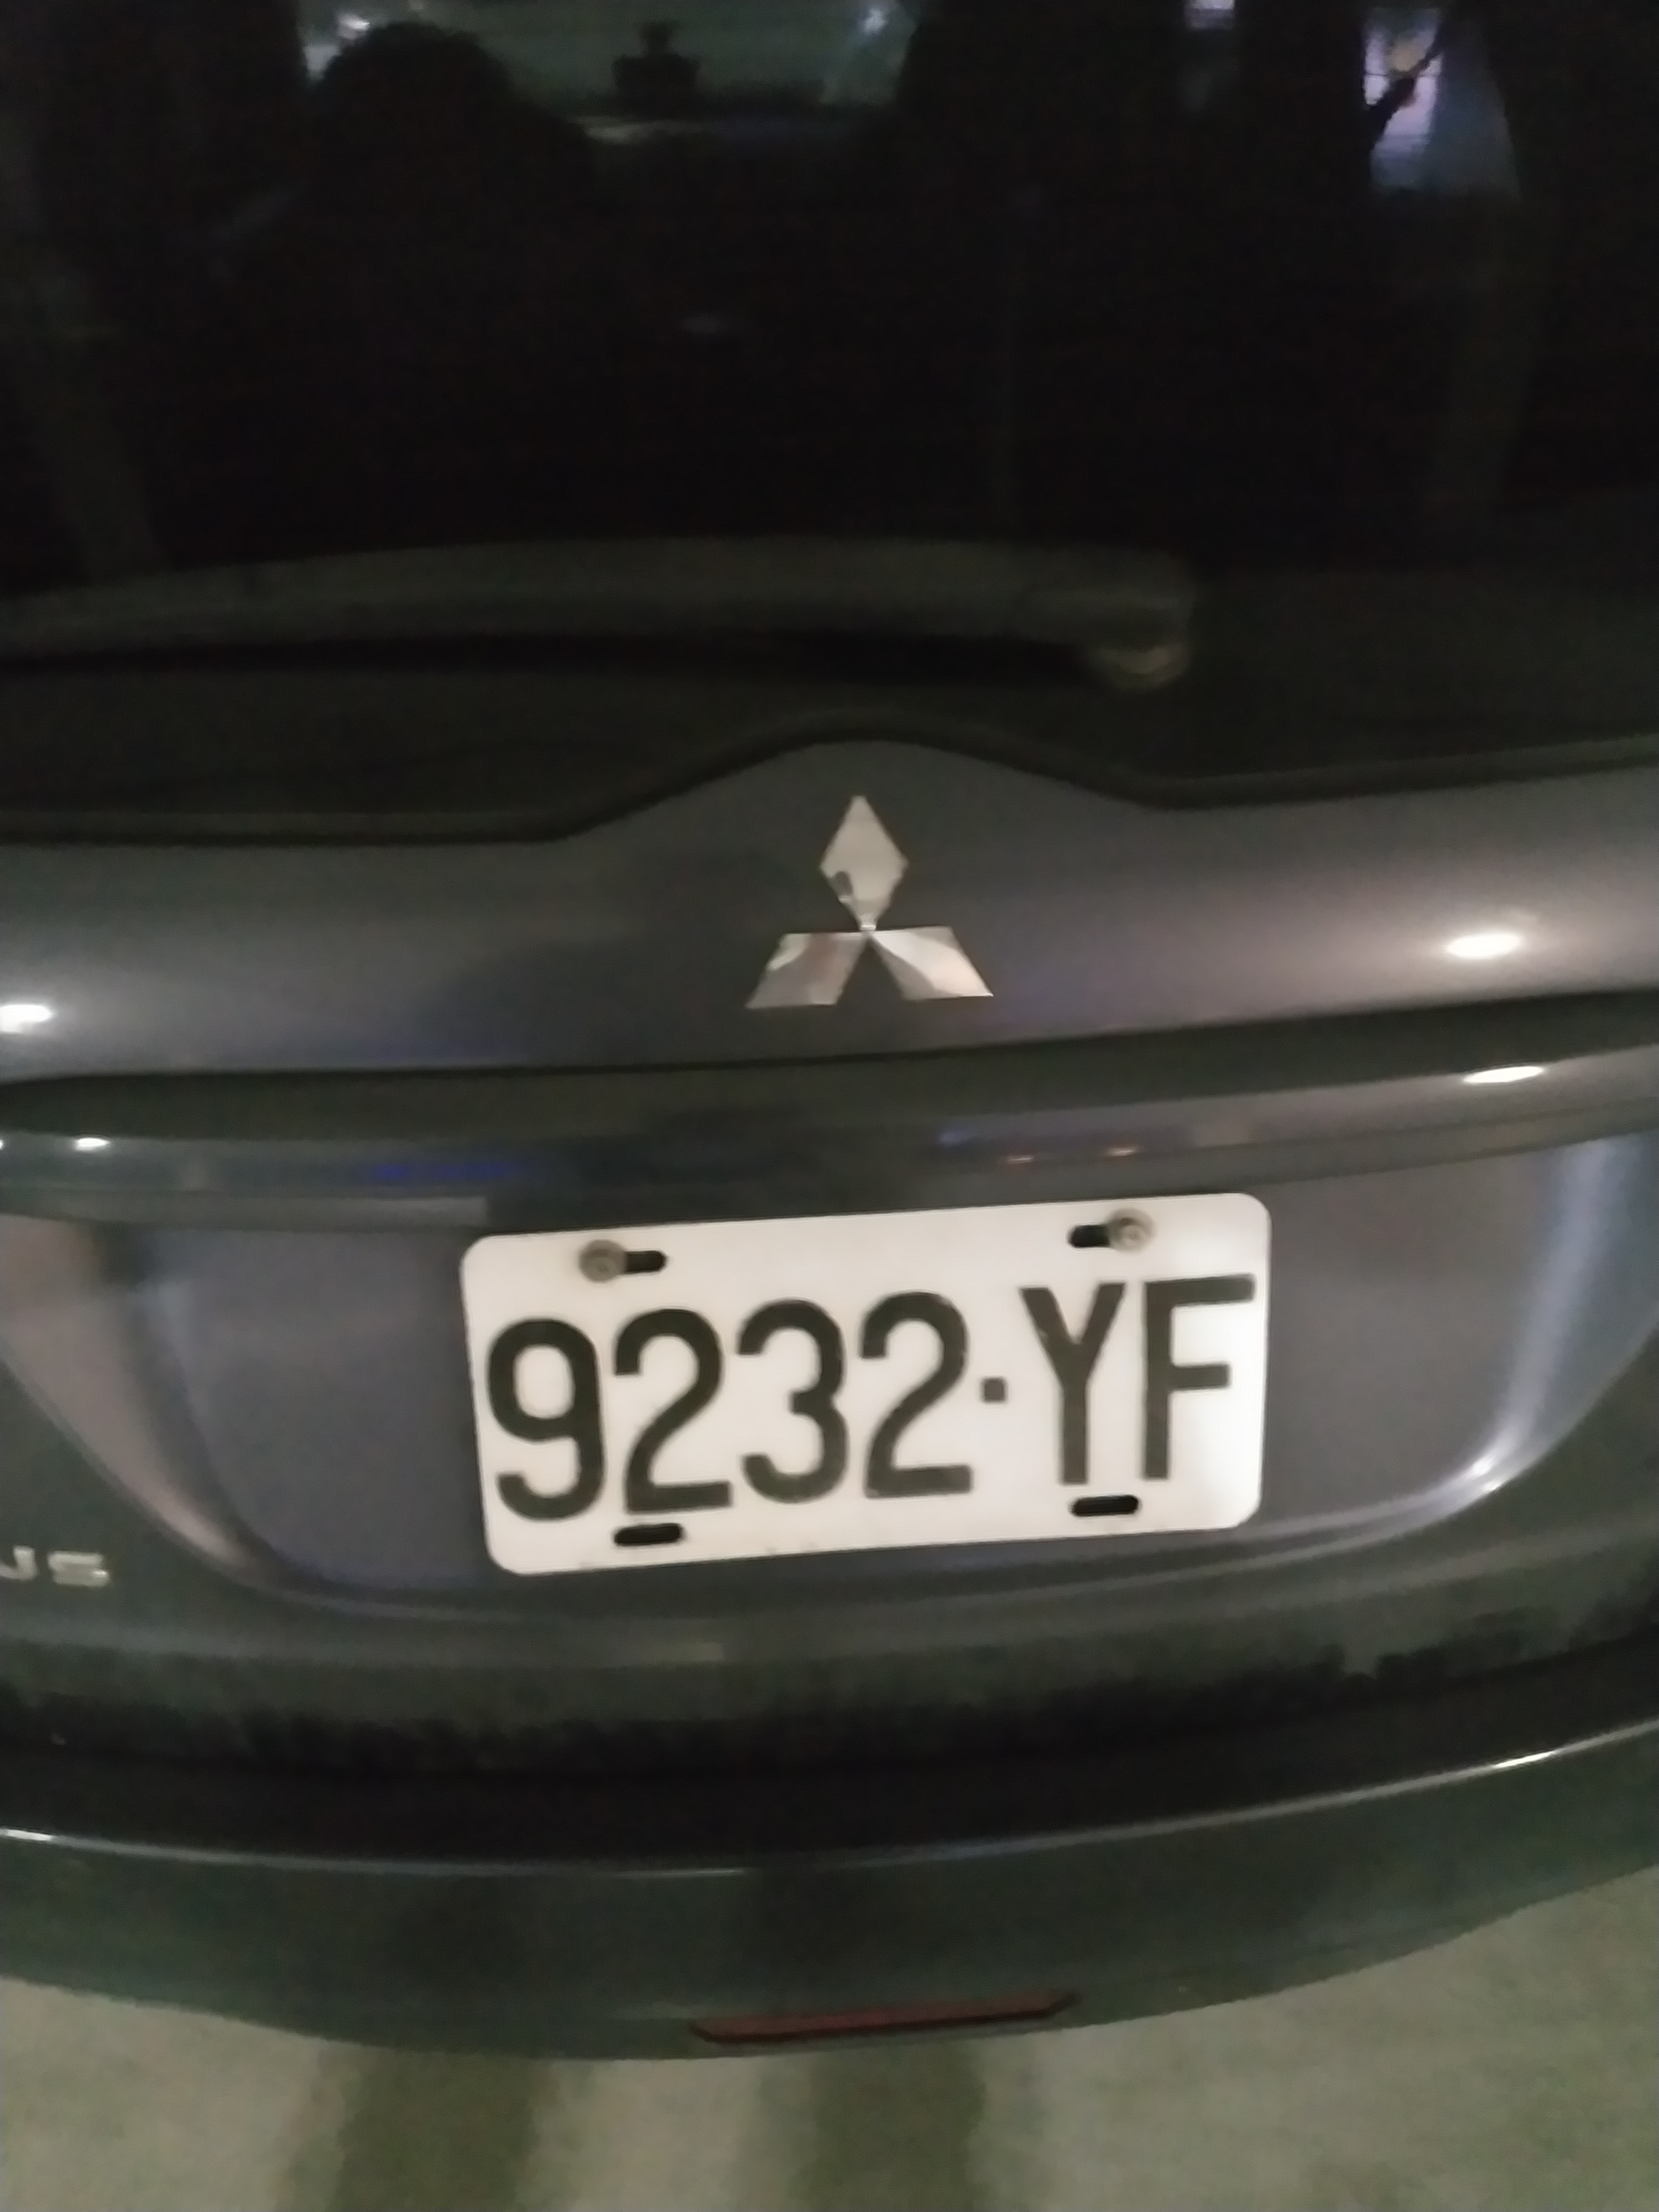car: (5, 40, 1659, 1918)
car_card: (455, 1212, 1274, 1552)
